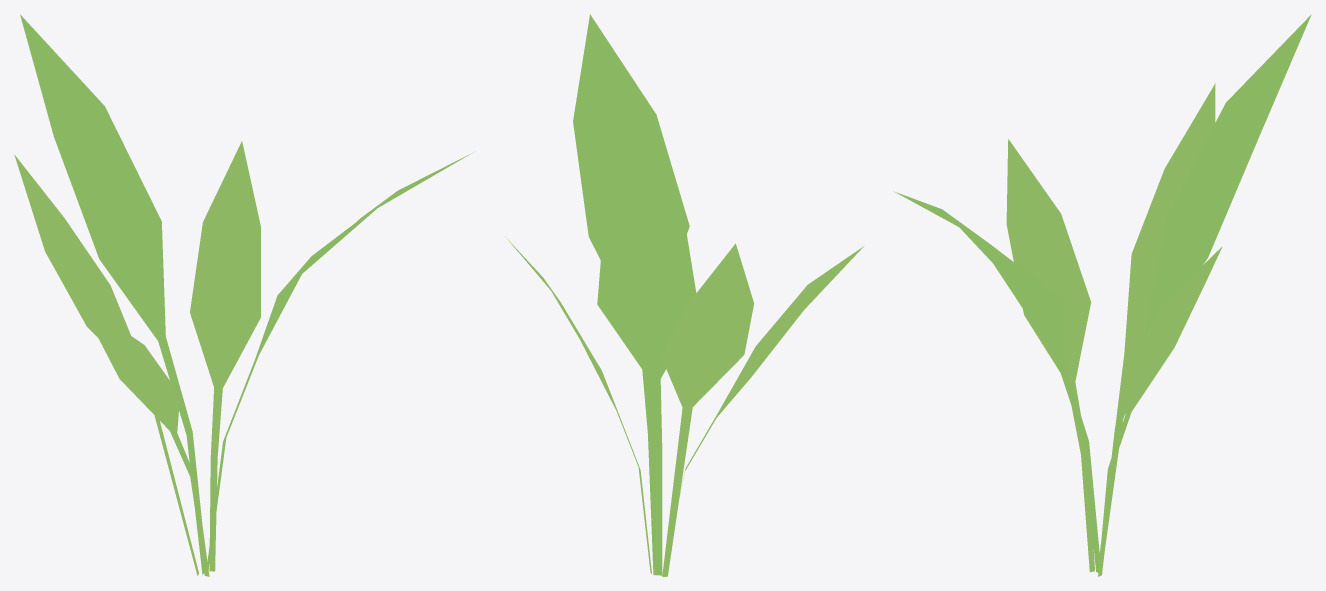
The model's file is Plant_g_OneS_04.fbx.
The picture shows the model from 3 angles, left to right: view 1: azimuth 30°, elevation 25°; view 2: azimuth 150°, elevation 25°; view 3: azimuth 270°, elevation 25°; orthographic projection. The views are drawn at different scales.
Parts seen in each view (by area): view 1: Plant_g_OneS_04; view 2: Plant_g_OneS_04; view 3: Plant_g_OneS_04.
Boxes of the visible parts, x1,y1,x2,y2 form: Plant_g_OneS_04: (14,14,473,576); Plant_g_OneS_04: (505,14,863,576); Plant_g_OneS_04: (894,14,1311,576).
Bounding box in the file's own units: 0.4141 × 0.5954 × 0.4365.
